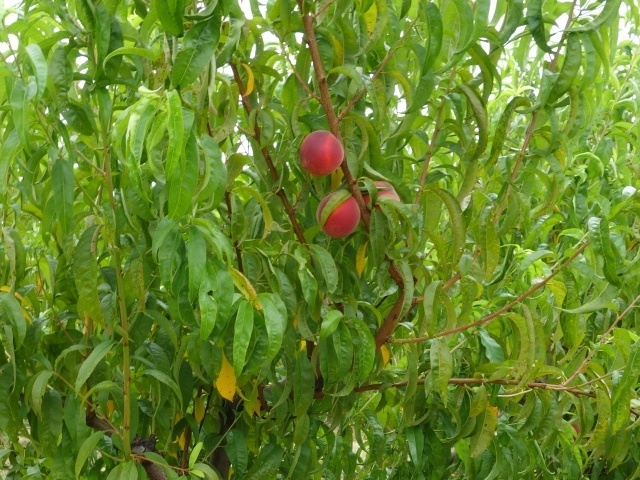peach: (292, 125, 348, 181), (310, 187, 364, 239), (355, 175, 404, 219)
